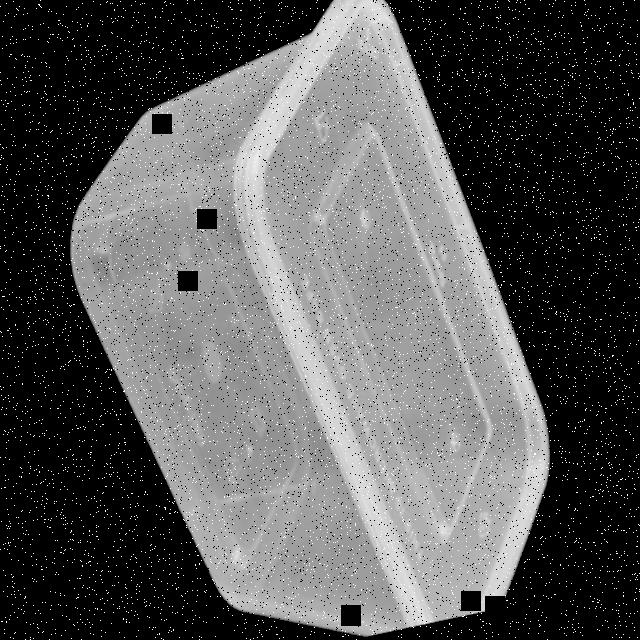plastic_box: (21, 0, 582, 640)
